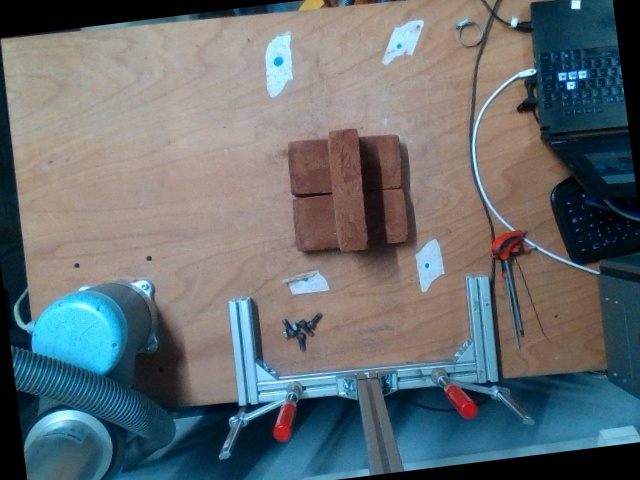brick-side: (328, 127, 368, 250)
